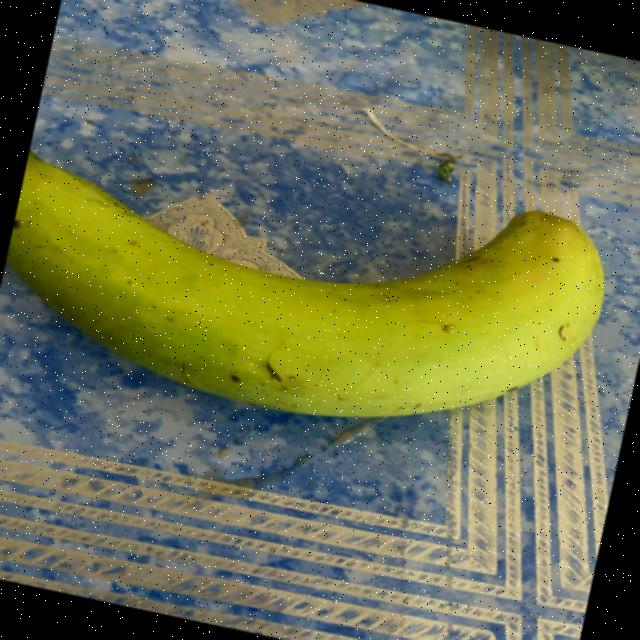Unripe: (0, 45, 640, 513)
